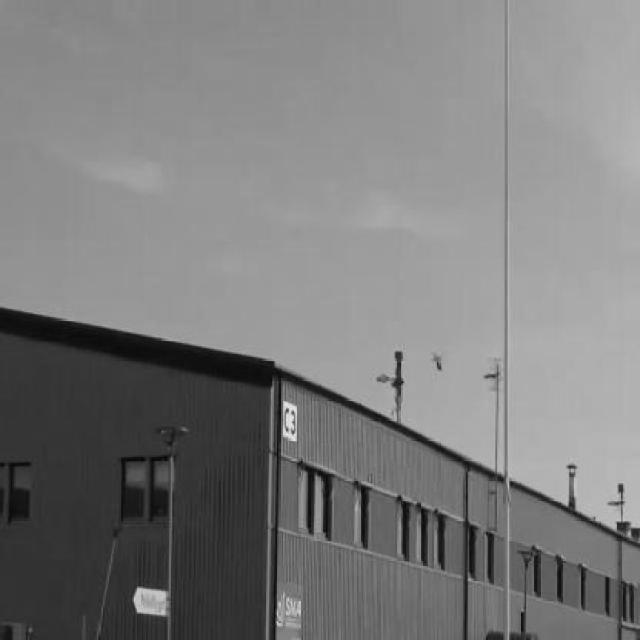helikopter: (428, 348, 448, 376)
